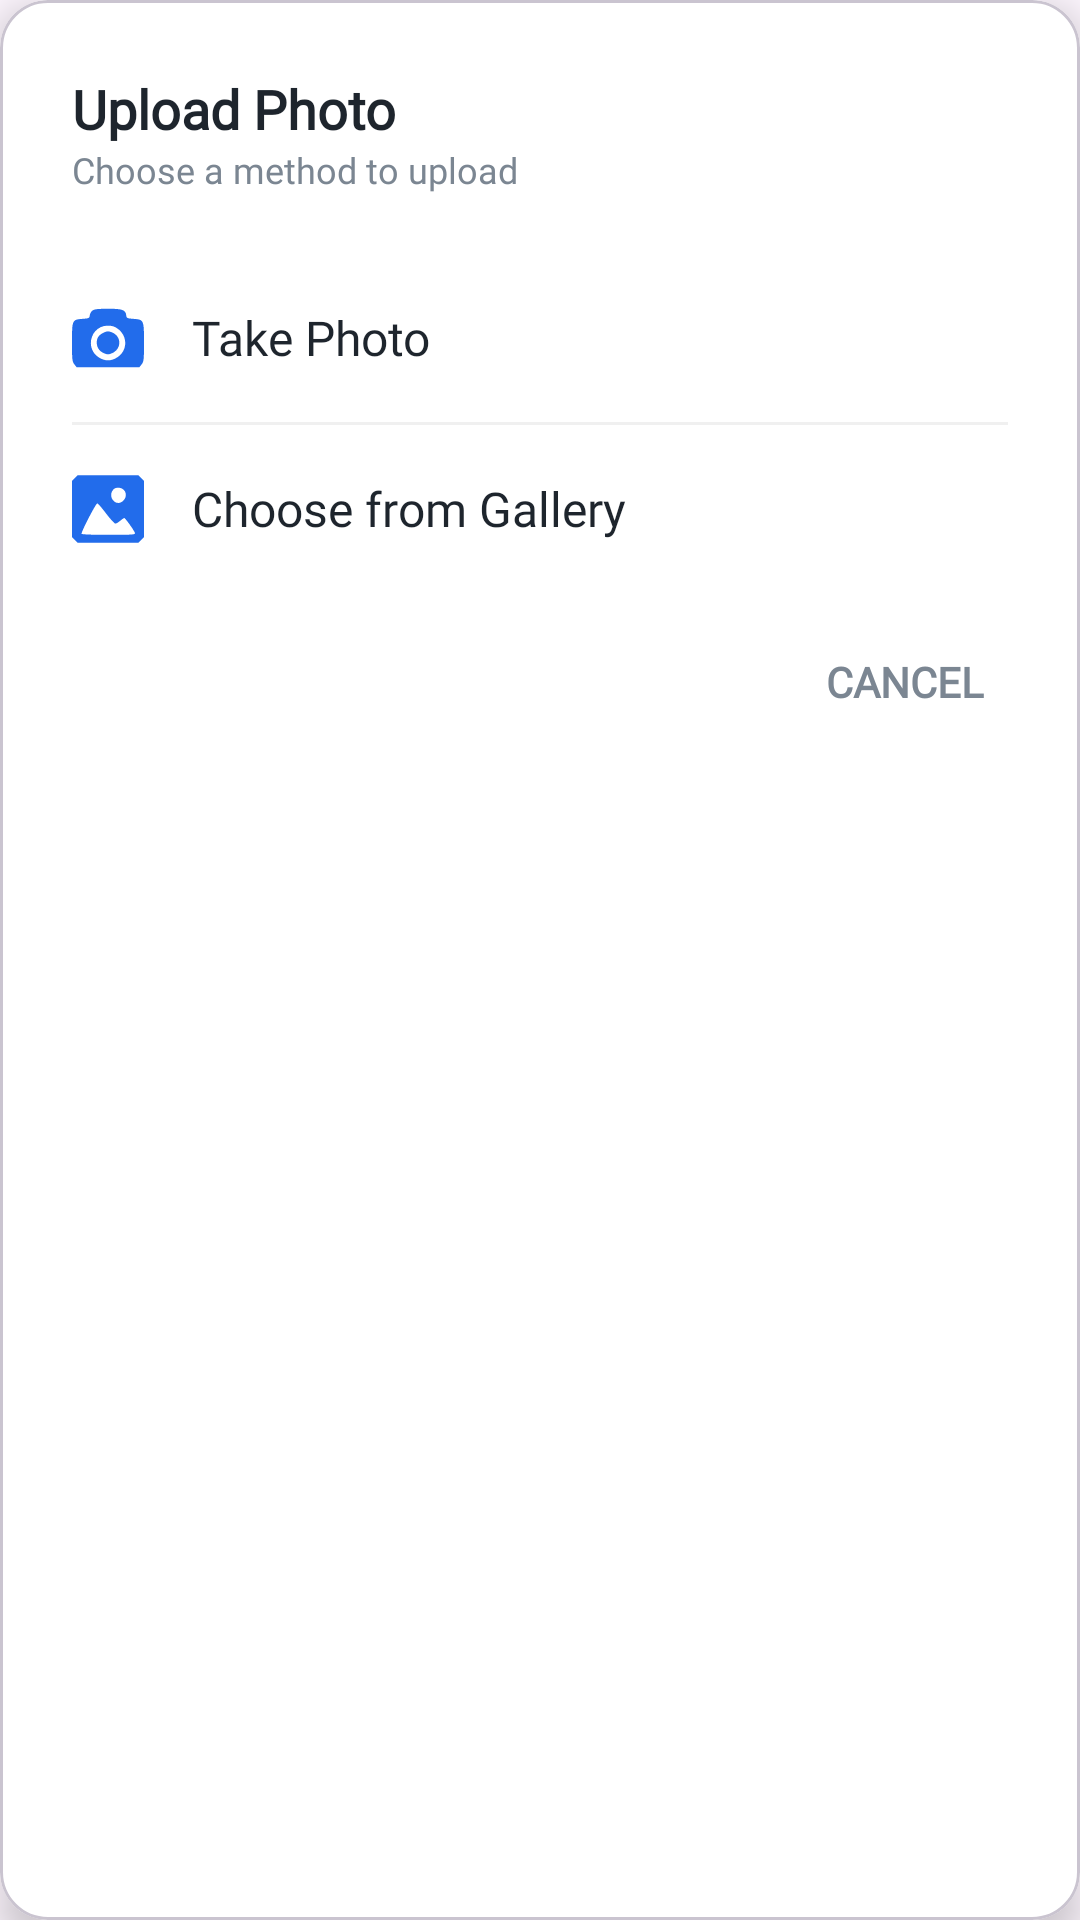

Screen size 1080 × 1920. Icon name, then its box in pixels as (left=x1, top=y1, right=x2, bottom=y2):
camera: (left=72, top=308, right=144, bottom=368)
